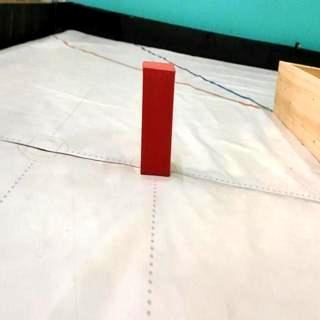redbox: (140, 58, 176, 176)
